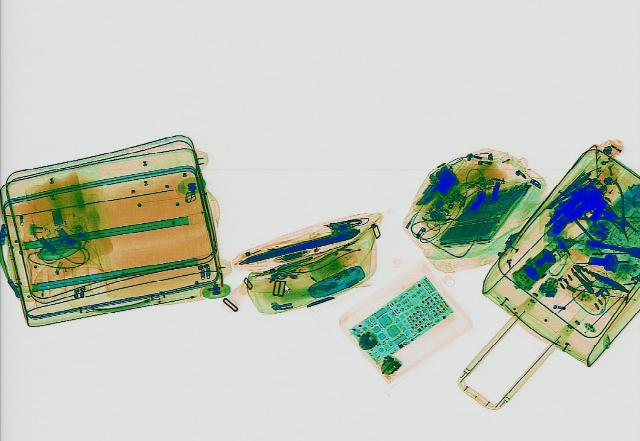Pliers: (568, 183, 638, 228)
